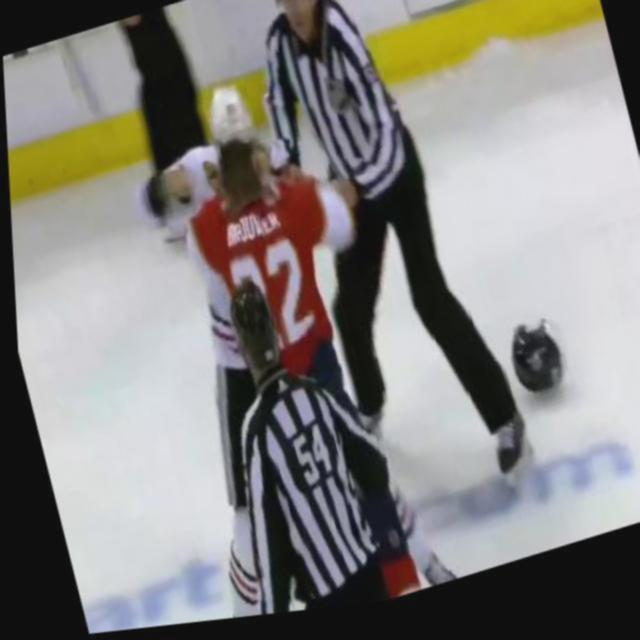fight: (116, 61, 402, 498)
